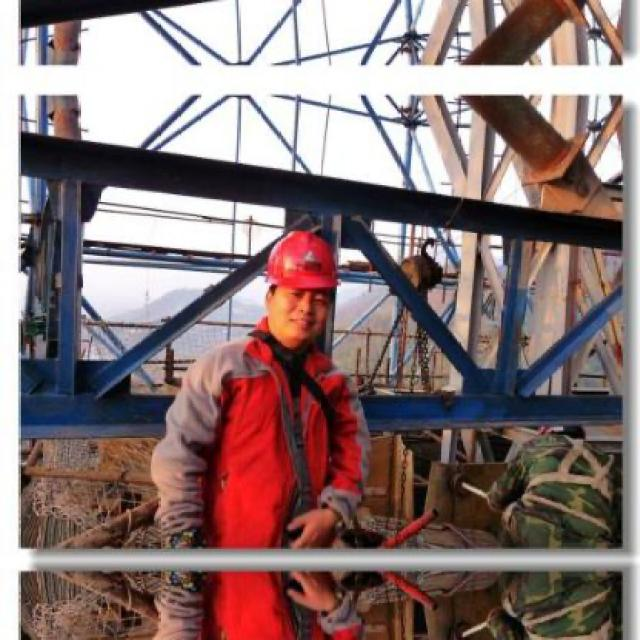helmet: (263, 222, 346, 349)
